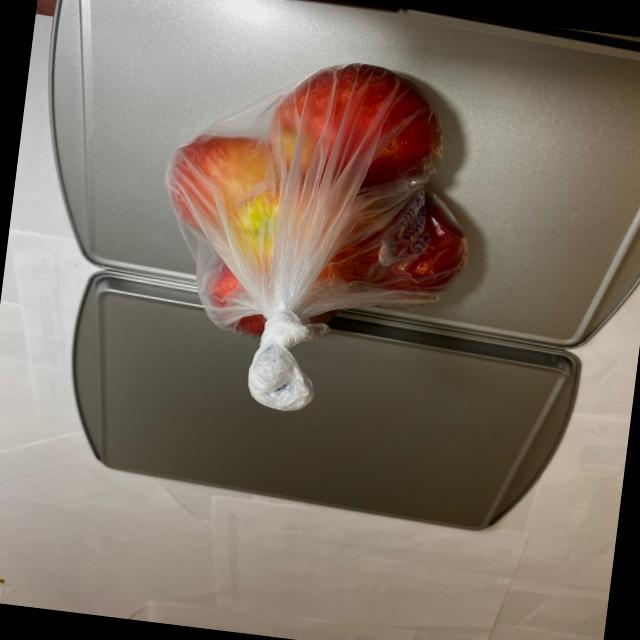apple: (142, 36, 494, 364)
